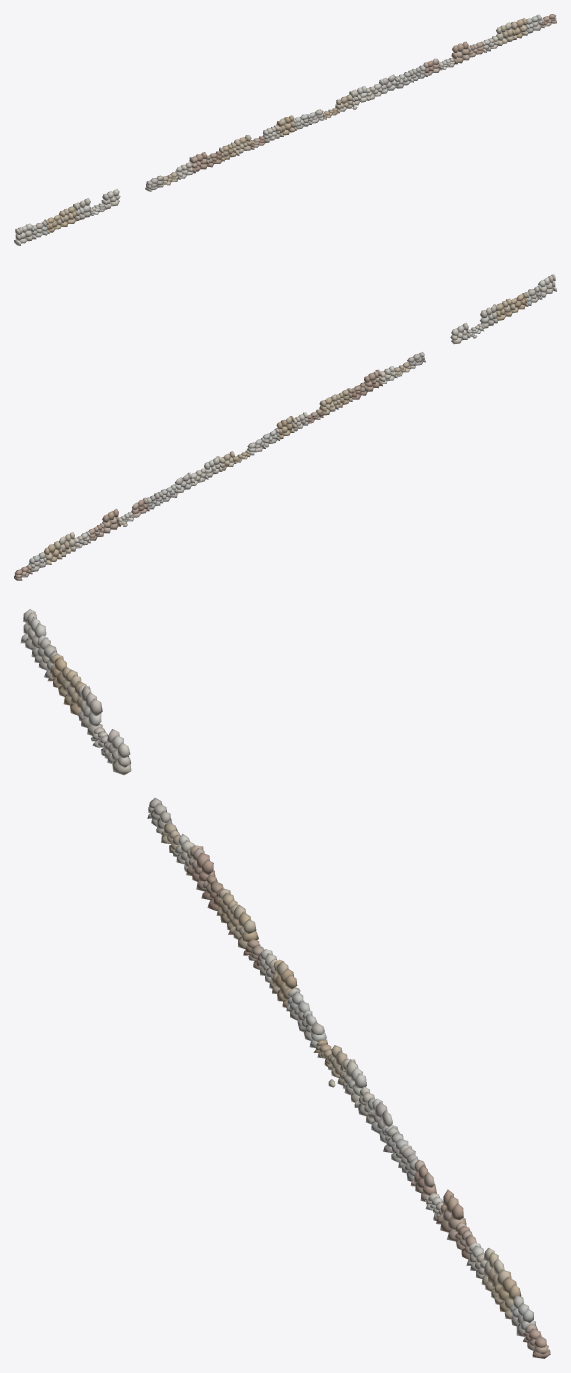
The model's file is farm_-2_17_near.glb.
3 views of the same model, one above another, from view 1: azimuth 30°, elevation 25°; view 2: azimuth 210°, elevation 25°; view 3: azimuth 270°, elevation 25° (orthographic). The views are drawn at different scales.
Parts seen in each view (by area): view 1: geometry_0; view 2: geometry_0; view 3: geometry_0.
Boxes of the visible parts, x1=… form: geometry_0: x1=14, y1=14, x2=556, y2=245; geometry_0: x1=14, y1=274, x2=556, y2=580; geometry_0: x1=20, y1=609, x2=550, y2=1358.
Size of the model in its own units: 56.08 by 4.01 by 19.26.
